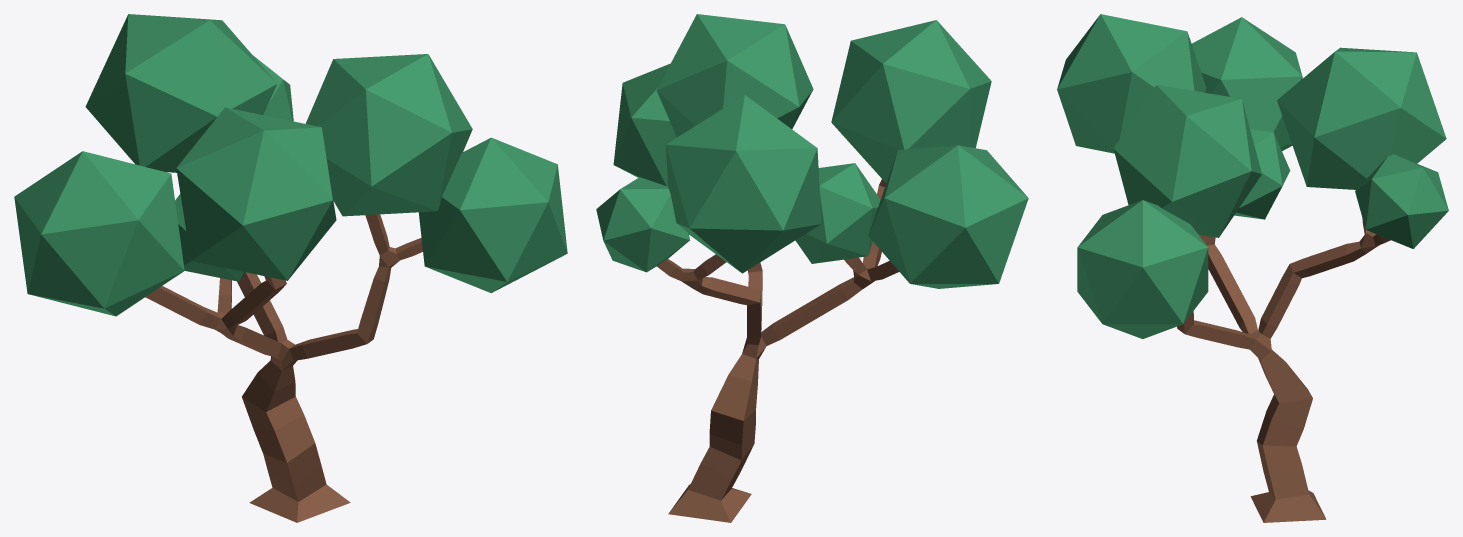
Rendered from stree.gltf.
The picture shows the model from 3 angles, left to right: view 1: azimuth 30°, elevation 25°; view 2: azimuth 150°, elevation 25°; view 3: azimuth 270°, elevation 25°; orthographic projection. The views are drawn at different scales.
Parts seen in each view (by area): view 1: Icosphere.007, Icosphere.001, Icosphere.005, Icosphere.003, Cube, Icosphere, Icosphere.006, Icosphere.002; view 2: Icosphere.003, Icosphere.007, Icosphere.001, Cube, Icosphere.005, Icosphere.002, Icosphere.006, Icosphere; view 3: Icosphere.003, Icosphere.005, Icosphere, Cube, Icosphere.001, Icosphere.007, Icosphere.002, Icosphere.006.
Boxes of the visible parts, x1=… form: Icosphere.007: x1=14, y1=151, x2=184, y2=316; Icosphere.001: x1=176, y1=107, x2=336, y2=280; Icosphere.005: x1=305, y1=54, x2=472, y2=216; Icosphere.003: x1=85, y1=14, x2=277, y2=172; Cube: x1=145, y1=214, x2=422, y2=522; Icosphere: x1=418, y1=137, x2=567, y2=293; Icosphere.006: x1=175, y1=194, x2=245, y2=281; Icosphere.002: x1=253, y1=55, x2=293, y2=121; Icosphere.003: x1=666, y1=95, x2=821, y2=273; Icosphere.007: x1=868, y1=145, x2=1028, y2=288; Icosphere.001: x1=831, y1=20, x2=991, y2=182; Cube: x1=657, y1=179, x2=899, y2=522; Icosphere.005: x1=656, y1=14, x2=813, y2=137; Icosphere.002: x1=596, y1=177, x2=689, y2=272; Icosphere.006: x1=795, y1=163, x2=880, y2=263; Icosphere: x1=613, y1=63, x2=676, y2=186; Icosphere.003: x1=1277, y1=47, x2=1446, y2=189; Icosphere.005: x1=1113, y1=85, x2=1261, y2=237; Icosphere: x1=1077, y1=200, x2=1208, y2=338; Cube: x1=1177, y1=218, x2=1390, y2=522; Icosphere.001: x1=1057, y1=14, x2=1206, y2=153; Icosphere.007: x1=1192, y1=17, x2=1302, y2=150; Icosphere.002: x1=1355, y1=154, x2=1448, y2=248; Icosphere.006: x1=1234, y1=129, x2=1290, y2=219.
Bounding box in the file's own units: 3.66 × 3.55 × 2.9.
